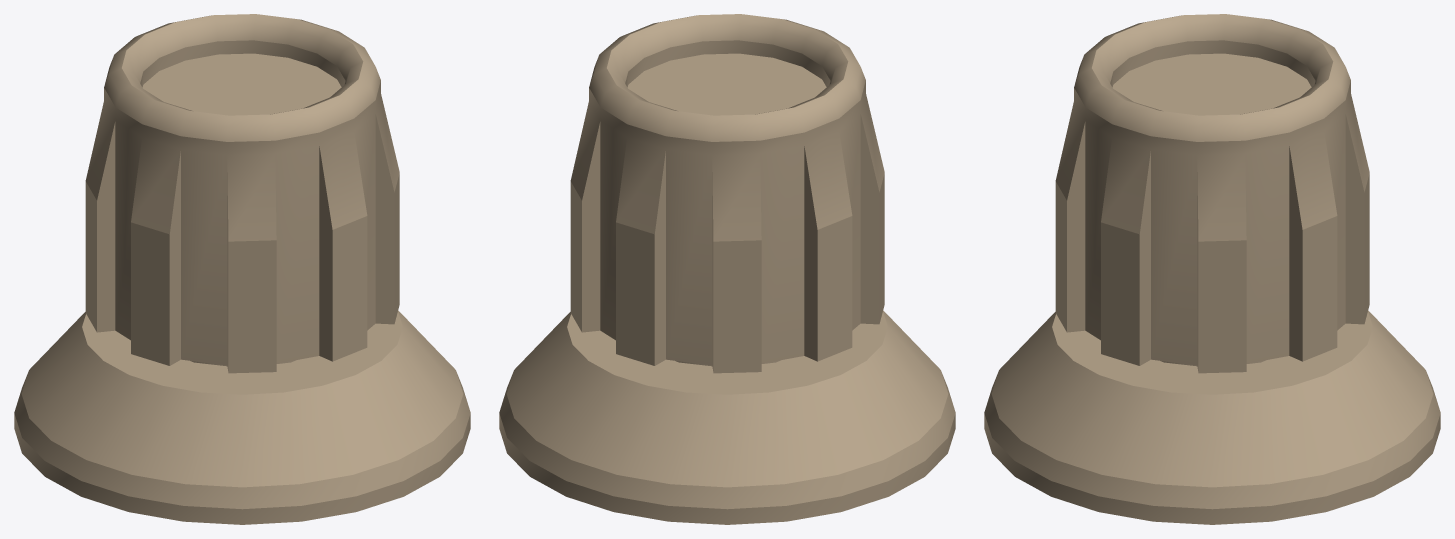
File: PotarType5.fbx
The picture shows the model from 3 angles, left to right: view 1: azimuth 30°, elevation 25°; view 2: azimuth 150°, elevation 25°; view 3: azimuth 270°, elevation 25°; orthographic projection.
Visible parts, largest first — view 1: Potar5; view 2: Potar5; view 3: Potar5.
Boxes of the visible parts, x1,y1,x2,y2 form: Potar5: (14,14,470,524); Potar5: (499,14,955,524); Potar5: (984,14,1440,524).
Size of the model in its own units: 7.63 by 6.71 by 7.63.
